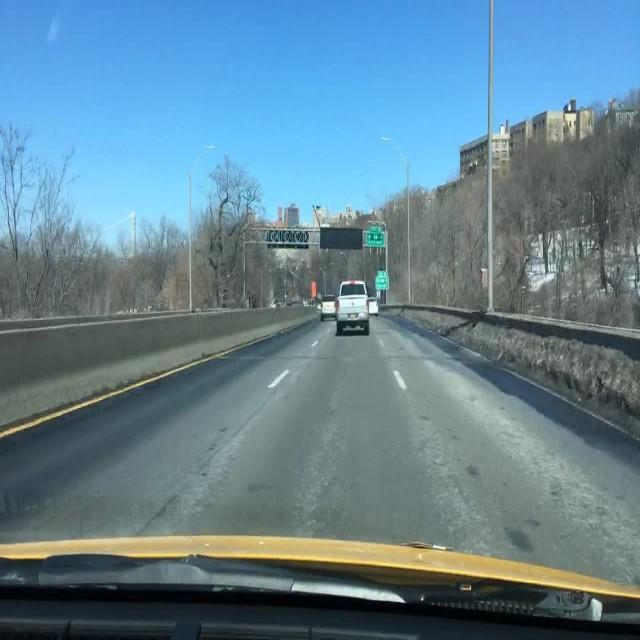normal: (306, 266, 393, 351)
